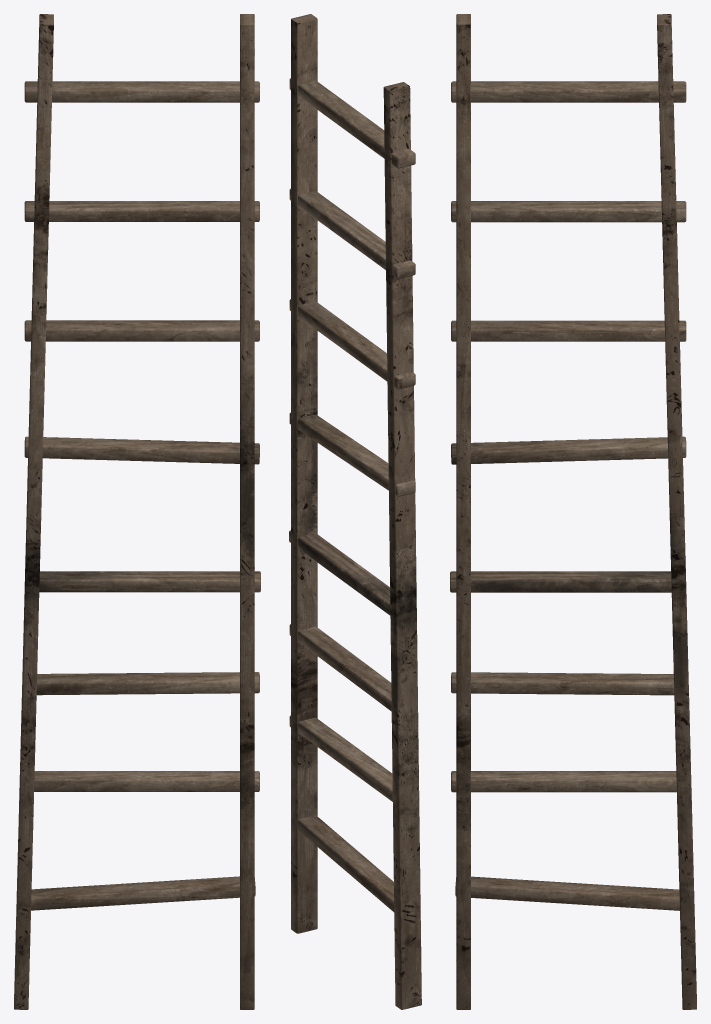
File: SM_Ladder01.fbx
3 renders of one model, left to right at view 1: azimuth 90°, elevation 25°; view 2: azimuth 210°, elevation 25°; view 3: azimuth 270°, elevation 25°, orthographic. The views are drawn at different scales.
Parts seen in each view (by area): view 1: SM_Ladder01_LOD0; view 2: SM_Ladder01_LOD0; view 3: SM_Ladder01_LOD0.
Part boxes in pixels (<box>): SM_Ladder01_LOD0: <box>14,14,260,1009</box>; SM_Ladder01_LOD0: <box>289,14,421,1009</box>; SM_Ladder01_LOD0: <box>450,14,696,1009</box>.
Bounding box in the file's own units: 7.13 × 68.12 × 300.
Materials: 1 (1 with a texture image).
